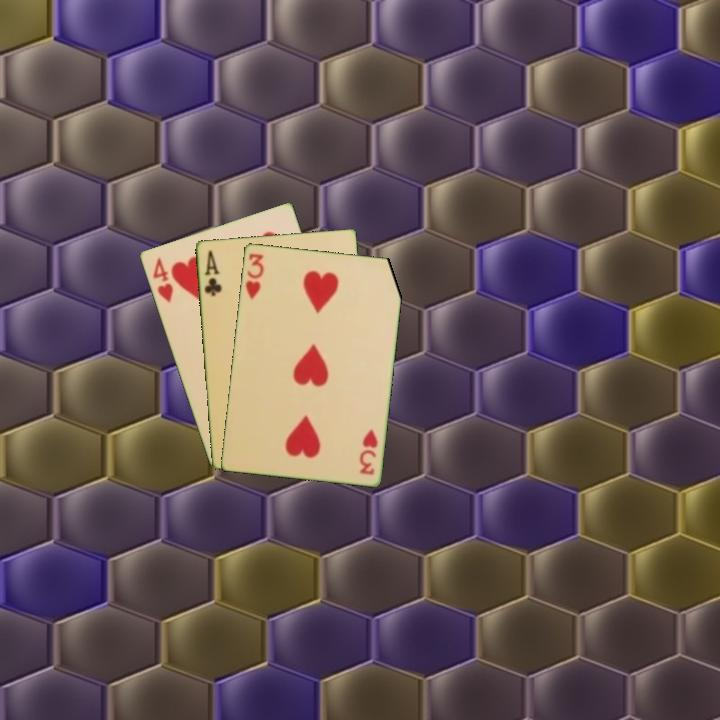3h: (242, 249, 266, 302), (356, 425, 380, 477)
4h: (149, 254, 176, 305)
Ac: (200, 246, 224, 299)
